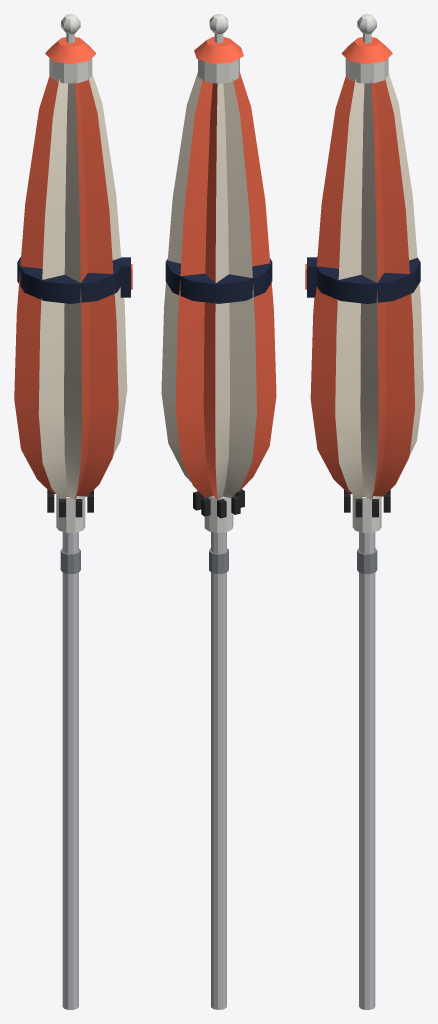
Rendered from SC_Ter_Parasol_Closed.gltf.
3 views of the same model, side by side, from view 1: azimuth 90°, elevation 25°; view 2: azimuth 210°, elevation 25°; view 3: azimuth 270°, elevation 25° (orthographic).
Parts seen in each view (by area): view 1: SC_Ter_Parasol_Closed; view 2: SC_Ter_Parasol_Closed; view 3: SC_Ter_Parasol_Closed.
Part boxes in pixels (bbox=[...]): SC_Ter_Parasol_Closed: bbox=[14, 14, 132, 1009]; SC_Ter_Parasol_Closed: bbox=[161, 14, 276, 1009]; SC_Ter_Parasol_Closed: bbox=[305, 14, 423, 1009].
Size of the model in its own units: 0.2629 by 2.54 by 0.2754.
1 material, 1 textured.
